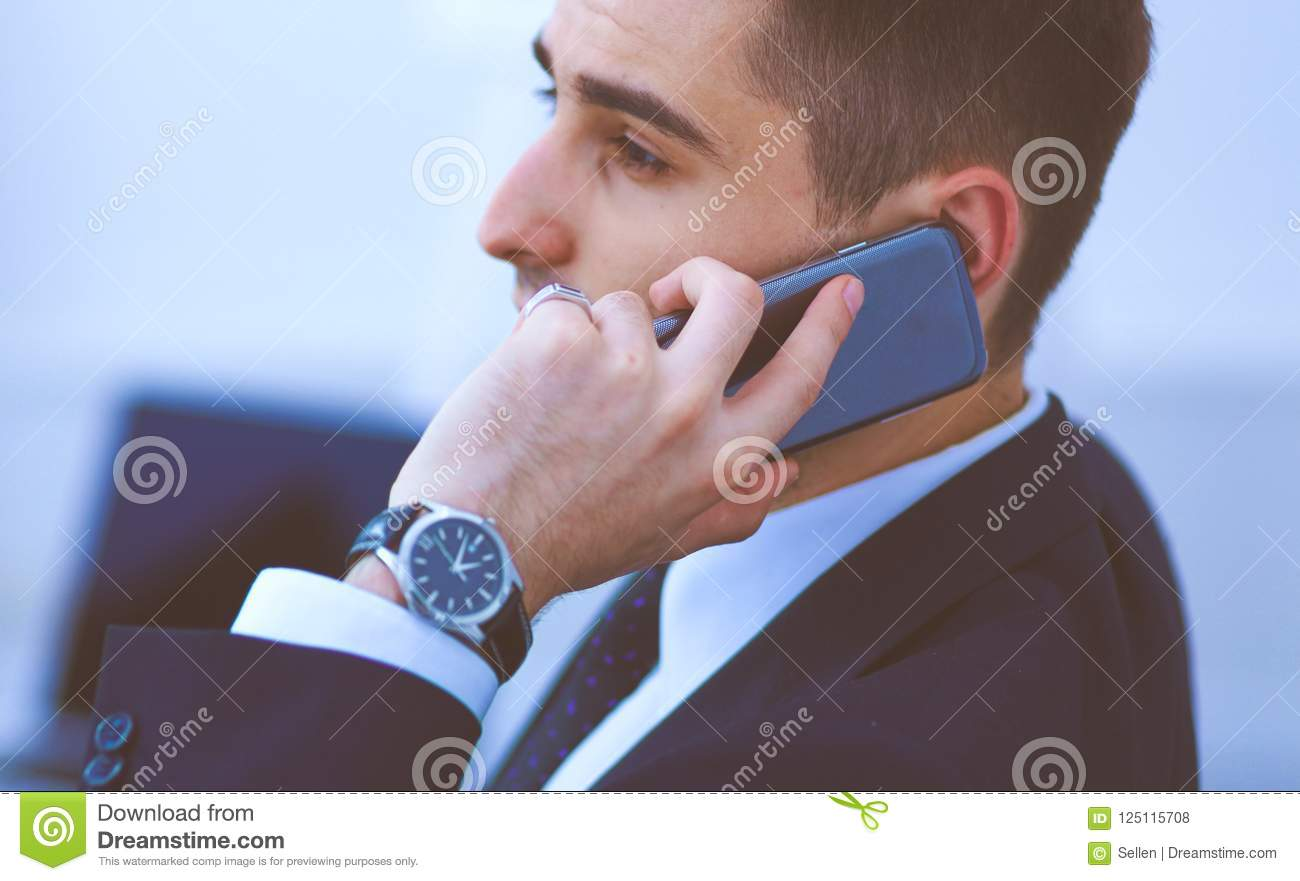phone: (612, 215, 987, 476)
talk: (350, 23, 989, 644)
